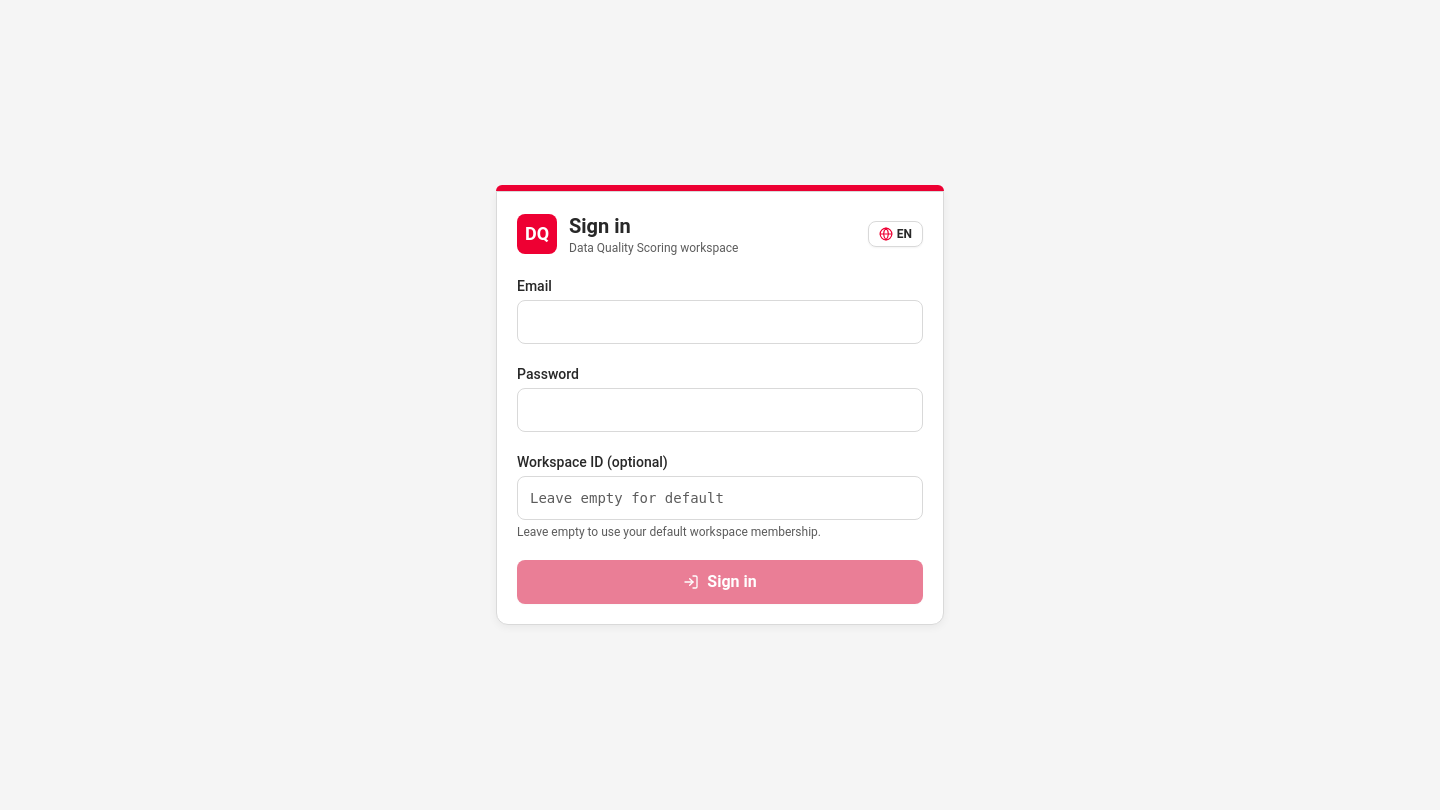
Test case: login lockout › shows a generic reason and a fallback timer when the 423 body has no lock details
Step 1. Type "alice@example.com" into the field labelled "Email" → (720, 322), box [517,300,923,344]
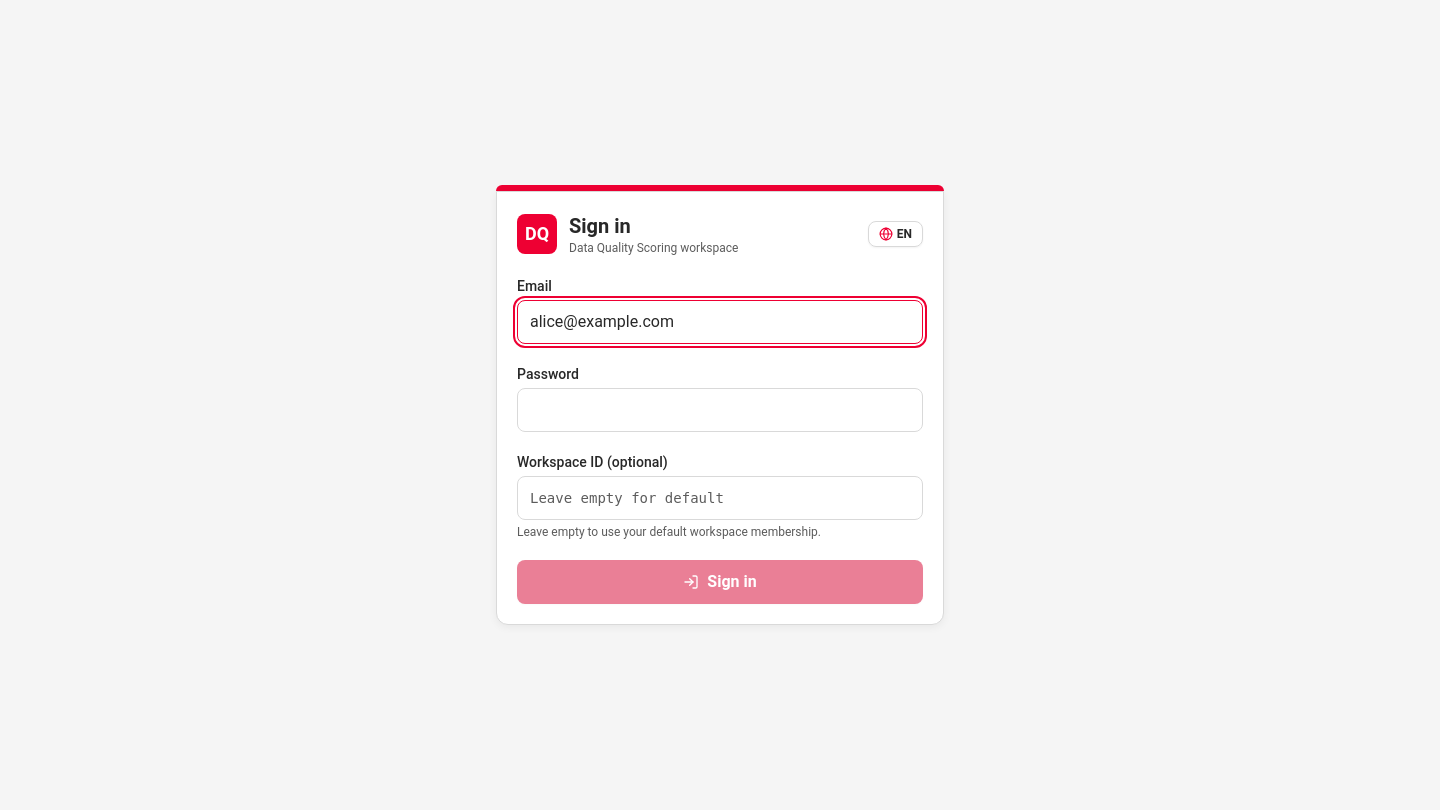
Step 2. Type "wrong" into the password field labelled "Password" → (720, 410), box [517,388,923,432]
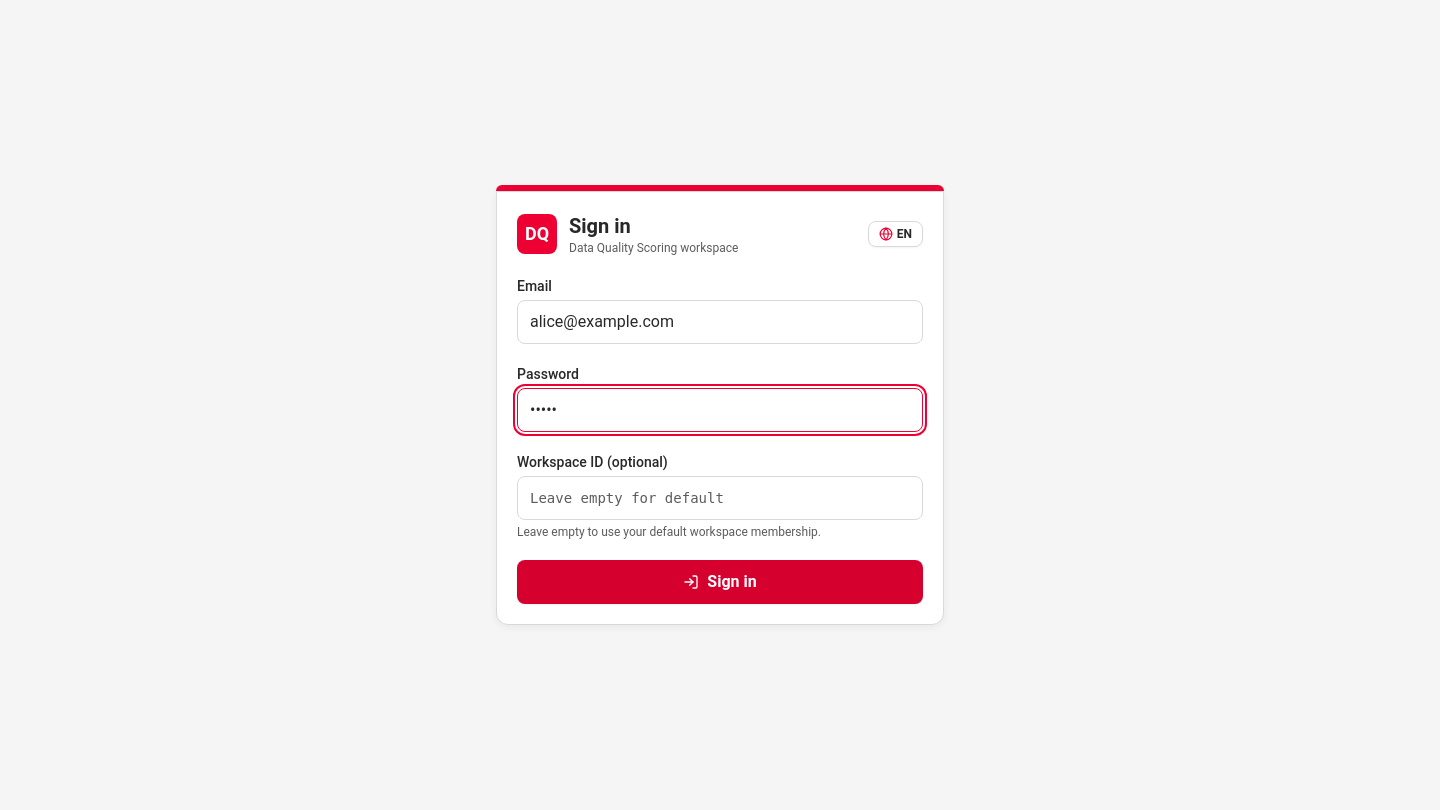
Step 3. Click the button "Sign in" → (720, 582), box [517,560,923,604]
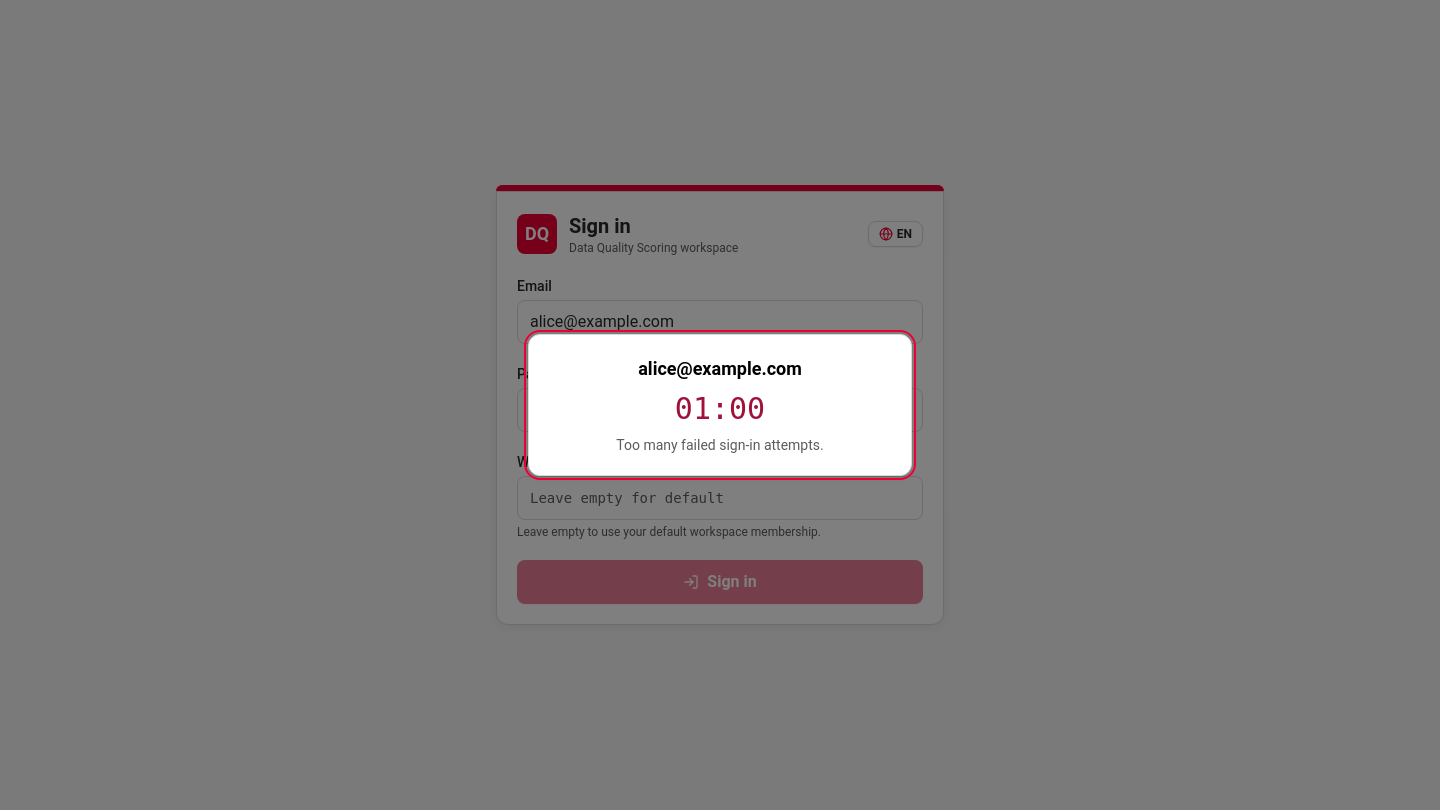
Now the text "Too many failed sign-in attempts." is shown, box [616,437,824,453]
Now the text "01:00" is shown, box [675,391,765,426]
